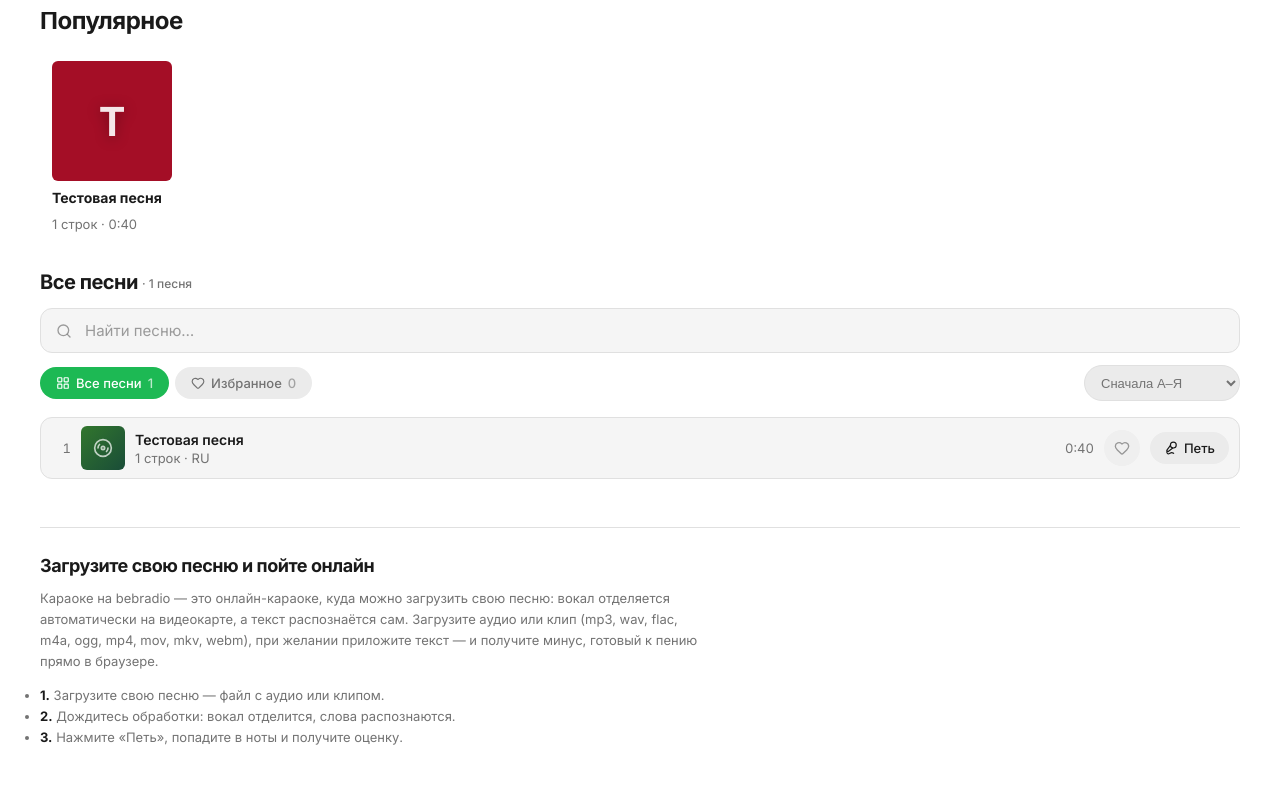
Scenario: Catalog: фаза 1 — полка, сортировка, язык, вид › превью из каталога показывает овнера песни
The width and height of the screenshot is (1280, 812).
(page scrolled)
Check: the button "Петь" is shown, box top-left (1150, 432), bottom-right (1229, 464)
Click the button with aria-label "Превью: Тестовая песня": click(112, 146) top-left (40, 49), bottom-right (184, 244)
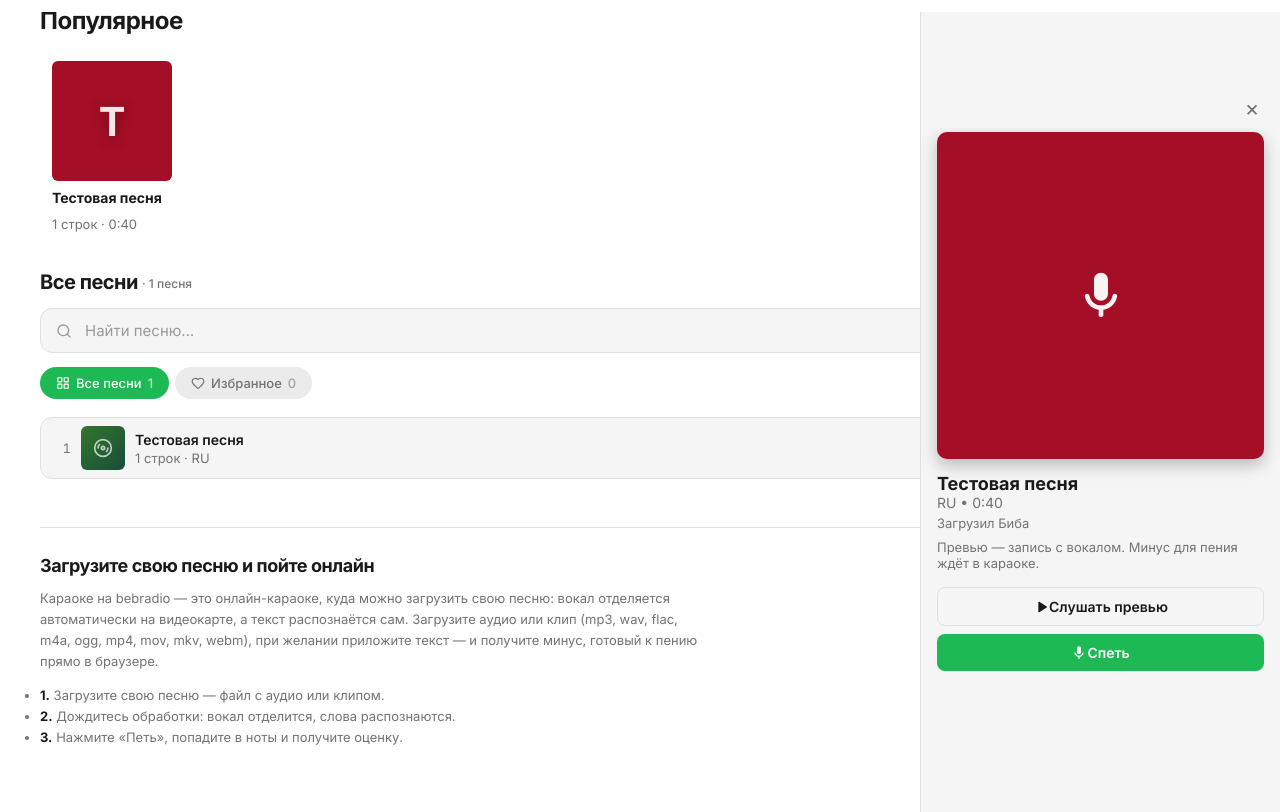
Check: the element with test id "karaoke-preview-panel" shows "Загрузил Биба", box top-left (920, 12), bottom-right (1279, 811)
